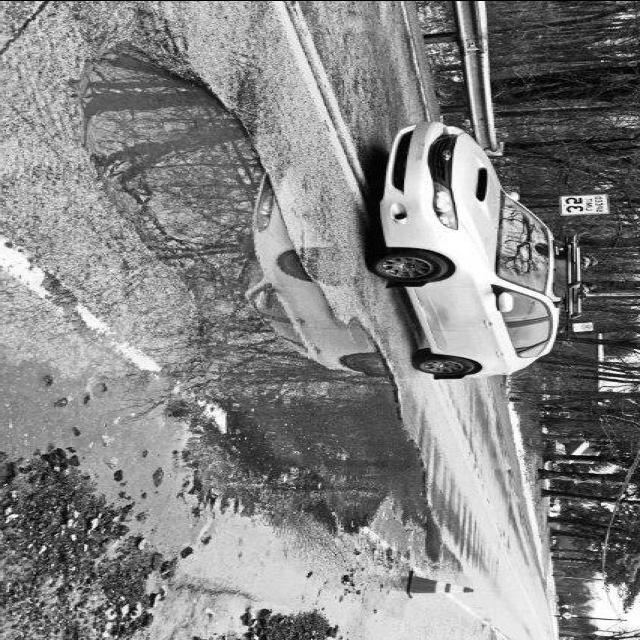lubang: (76, 26, 442, 563)
